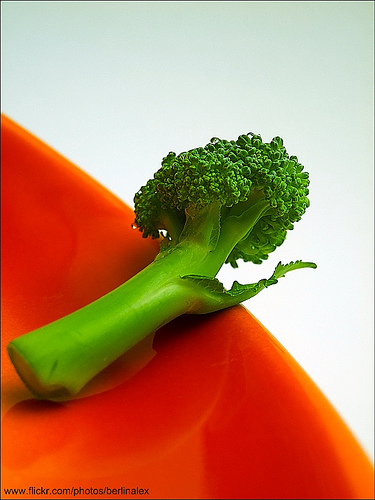broccoli: (6, 133, 315, 401)
